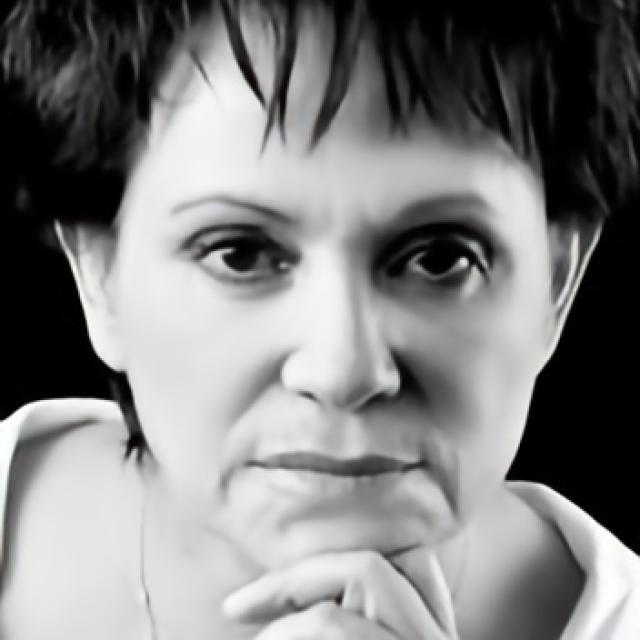anger: (128, 49, 556, 582)
